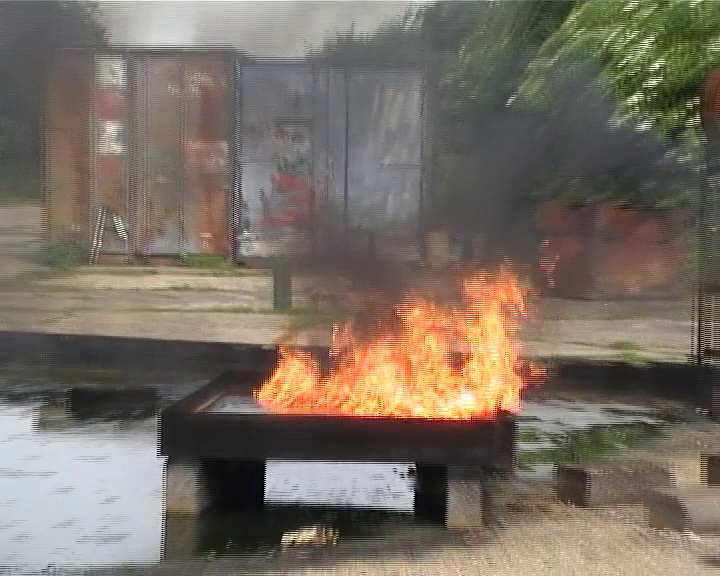fire: (263, 277, 524, 418)
